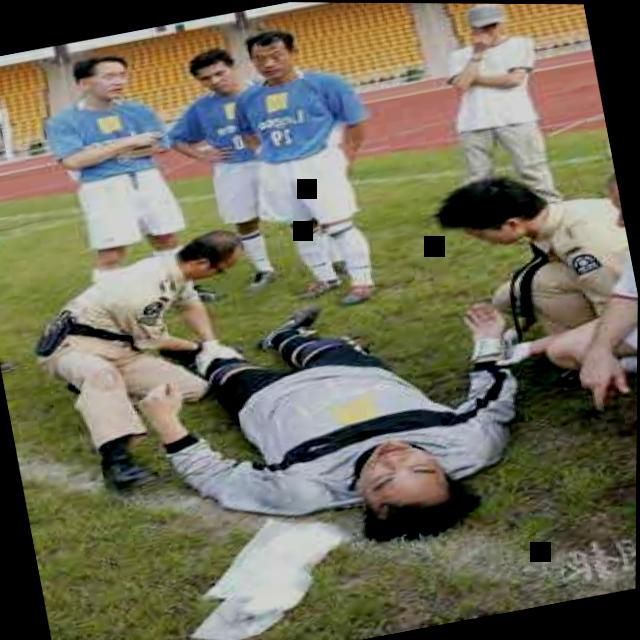Fall-Detected: (121, 249, 568, 594)
